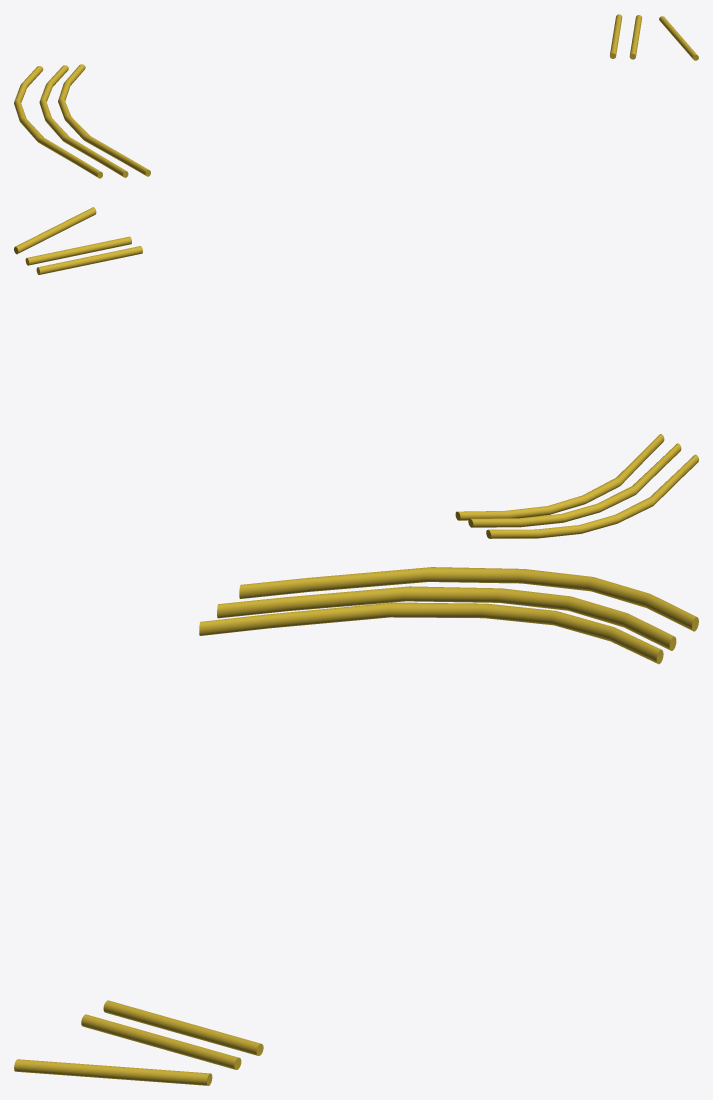
The model's file is TV_Khung xuong te bao (1).fbx.
3 views of the same model, one above another, from view 1: azimuth 30°, elevation 25°; view 2: azimuth 150°, elevation 25°; view 3: azimuth 270°, elevation 25° (orthographic). The views are drawn at different scales.
Parts seen in each view (by area): view 1: TV_Khung xuong tb.001, TV_Khung xuong tb.002; view 2: TV_Khung xuong tb.001, TV_Khung xuong tb.002; view 3: TV_Khung xuong tb.001, TV_Khung xuong tb.002.
Part boxes in pixels (<box>): TV_Khung xuong tb.001: <box>14,64,150,178</box>; TV_Khung xuong tb.002: <box>610,14,698,60</box>; TV_Khung xuong tb.001: <box>455,434,698,538</box>; TV_Khung xuong tb.002: <box>14,207,142,274</box>; TV_Khung xuong tb.001: <box>199,567,698,664</box>; TV_Khung xuong tb.002: <box>14,1000,263,1085</box>.
Size of the model in its own units: 98.36 by 5.4 by 51.05.
